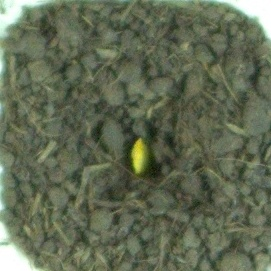chilli seed: (128, 135, 154, 176)
